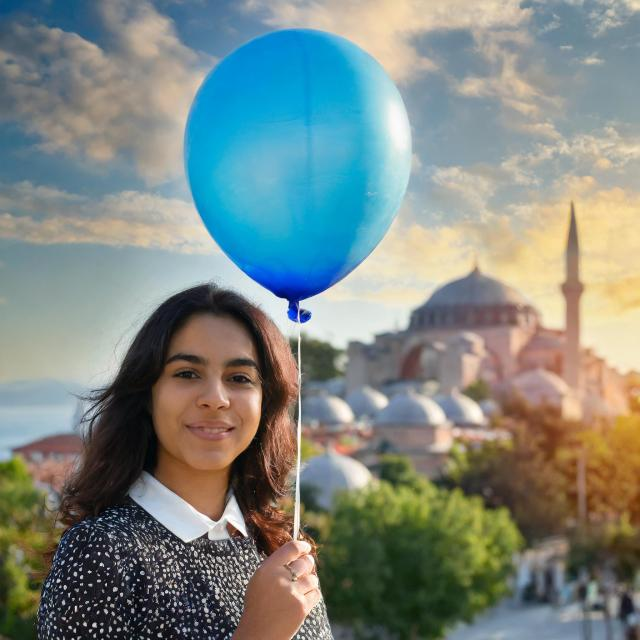blue: (186, 29, 414, 324)
